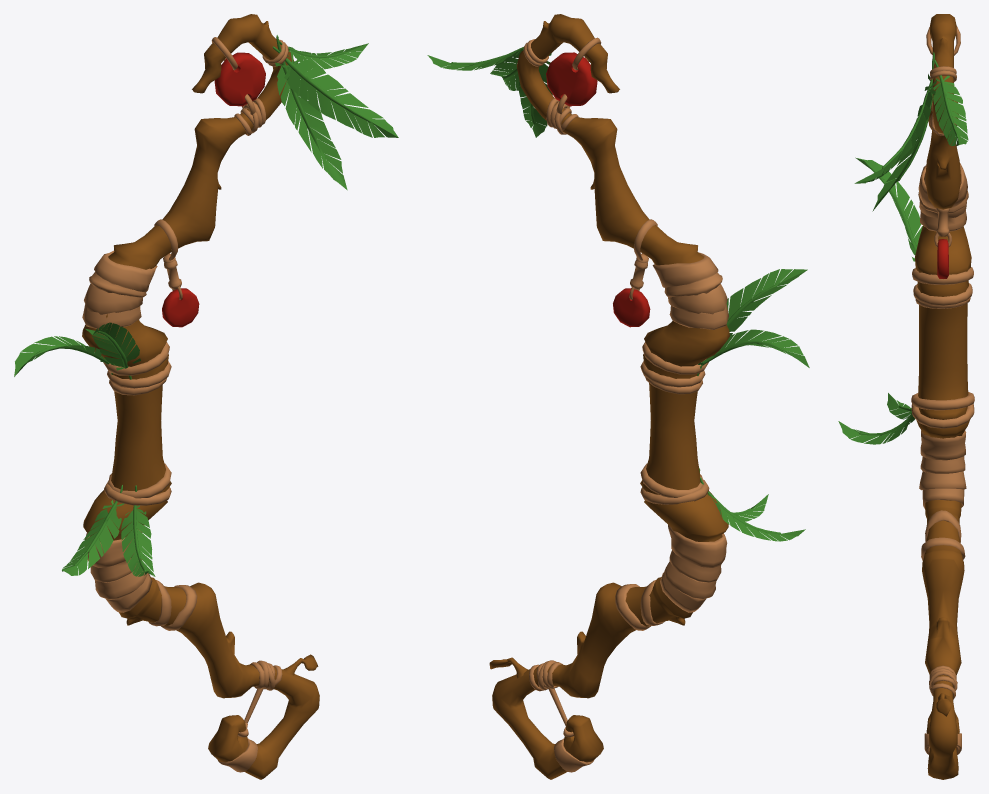
The model's file is Bow_5.fbx.
3 renders of one model, left to right at view 1: azimuth 30°, elevation 25°; view 2: azimuth 150°, elevation 25°; view 3: azimuth 270°, elevation 25°, orthographic.
Visible parts, largest first — view 1: Bow_5; view 2: Bow_5; view 3: Bow_5.
Part boxes in pixels (<box>): Bow_5: <box>14,14,398,779</box>; Bow_5: <box>427,14,809,779</box>; Bow_5: <box>838,14,974,779</box>.
Bounding box in the file's own units: 0.5037 × 0.9954 × 0.1632.
